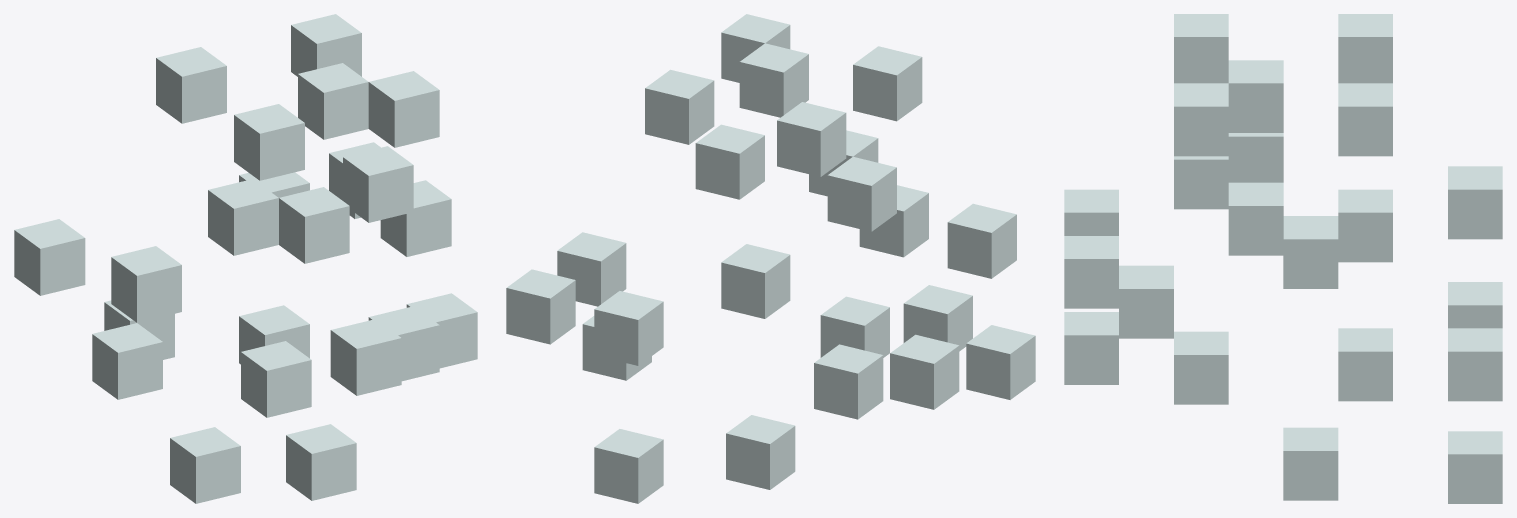
Rendered from Medieval Assets-306-Resource - Mine Node - Highlight.obj.
3 renders of one model, left to right at view 1: azimuth 30°, elevation 25°; view 2: azimuth 150°, elevation 25°; view 3: azimuth 270°, elevation 25°, orthographic. The views are drawn at different scales.
Parts seen in each view (by area): view 1: Resource - Mine Node - Highlight; view 2: Resource - Mine Node - Highlight; view 3: Resource - Mine Node - Highlight.
Boxes of the visible parts, x1=… form: Resource - Mine Node - Highlight: x1=14, y1=14, x2=477, y2=503; Resource - Mine Node - Highlight: x1=506, y1=14, x2=1035, y2=503; Resource - Mine Node - Highlight: x1=1064, y1=14, x2=1502, y2=503.
Bounding box in the file's own units: 0.8 × 0.8 × 0.8.
Materials: 1 (1 with a texture image).
